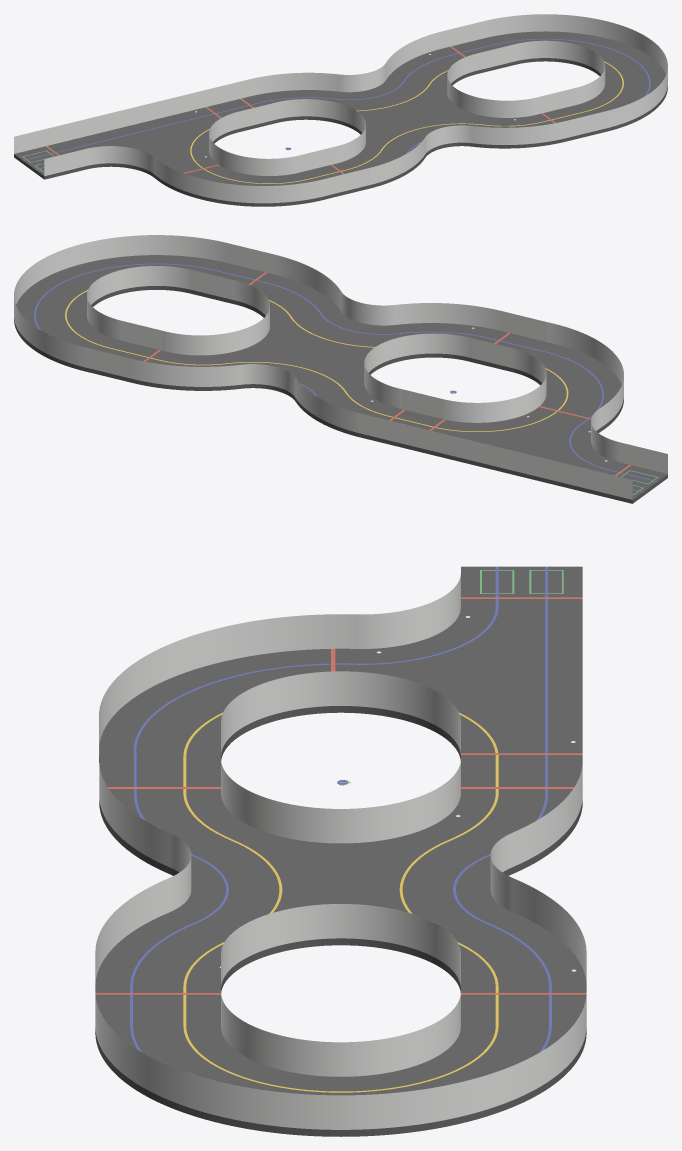
Rendered from Small_4_way.dae.
3 views of the same model, one above another, from view 1: azimuth 30°, elevation 25°; view 2: azimuth 150°, elevation 25°; view 3: azimuth 270°, elevation 25° (orthographic). The views are drawn at different scales.
Visible parts, largest first — view 1: Small 4-Way; view 2: Small 4-Way; view 3: Small 4-Way.
Part boxes in pixels (<box>): Small 4-Way: <box>14,14,667,206</box>; Small 4-Way: <box>14,235,667,503</box>; Small 4-Way: <box>95,566,586,1136</box>.
Size of the model in its own units: 8.89 by 3.28 by 0.3048.
